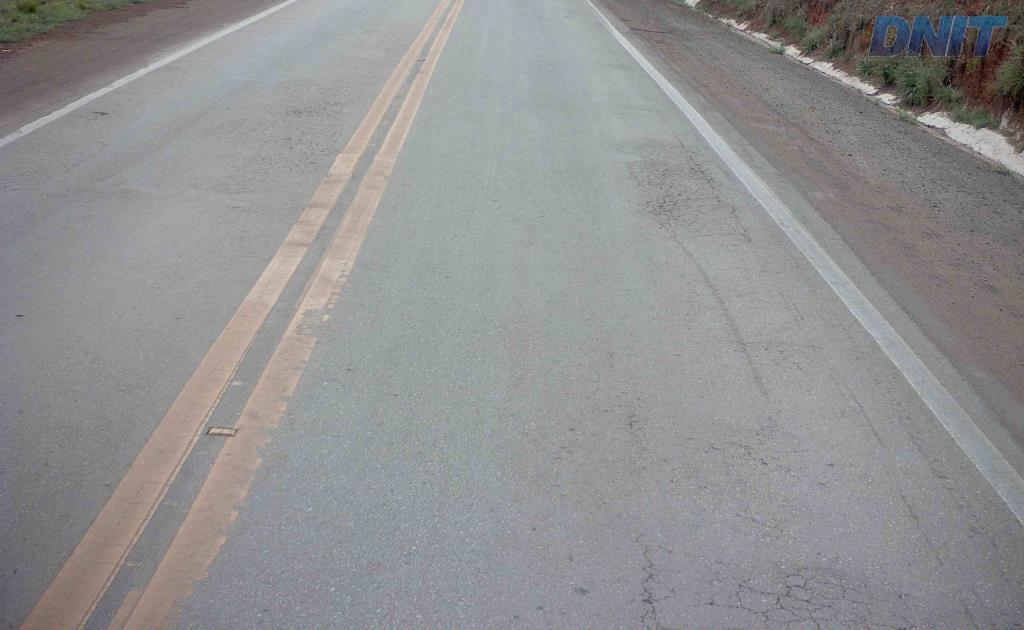crack: (775, 576, 839, 629)
